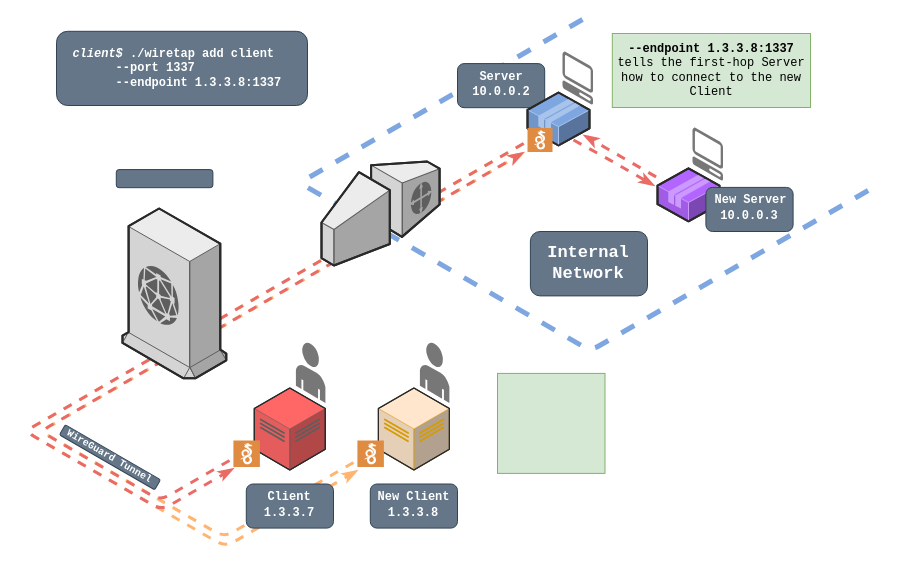
The diagram is 900 pixels wide and 574 high, and some of its shapes have lost their labels. The centre of each missing label's shape, as x and y in pixels:
--port 1337 configures the new Client's WireGuard listening port: the point at 550,422
Internet: the point at 164,178
